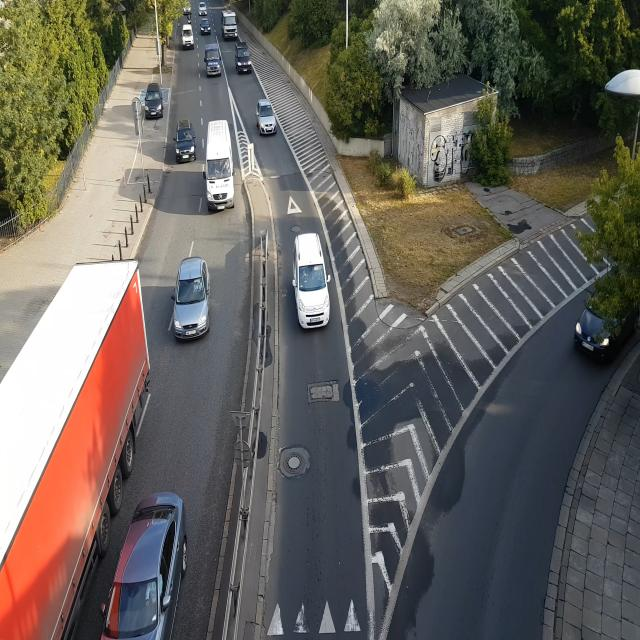car: (108, 492, 190, 640), (571, 286, 640, 376), (289, 228, 334, 334), (169, 254, 219, 338), (204, 120, 238, 218), (174, 119, 198, 172), (252, 99, 280, 139), (233, 42, 256, 83), (201, 45, 227, 81), (142, 82, 168, 118), (179, 26, 197, 51), (200, 21, 213, 41), (181, 1, 193, 19), (198, 2, 208, 17)
truck: (0, 246, 151, 489), (218, 7, 241, 38)
